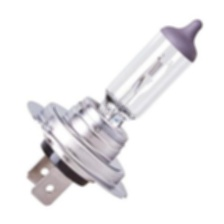light_bulb: (20, 15, 206, 208)
